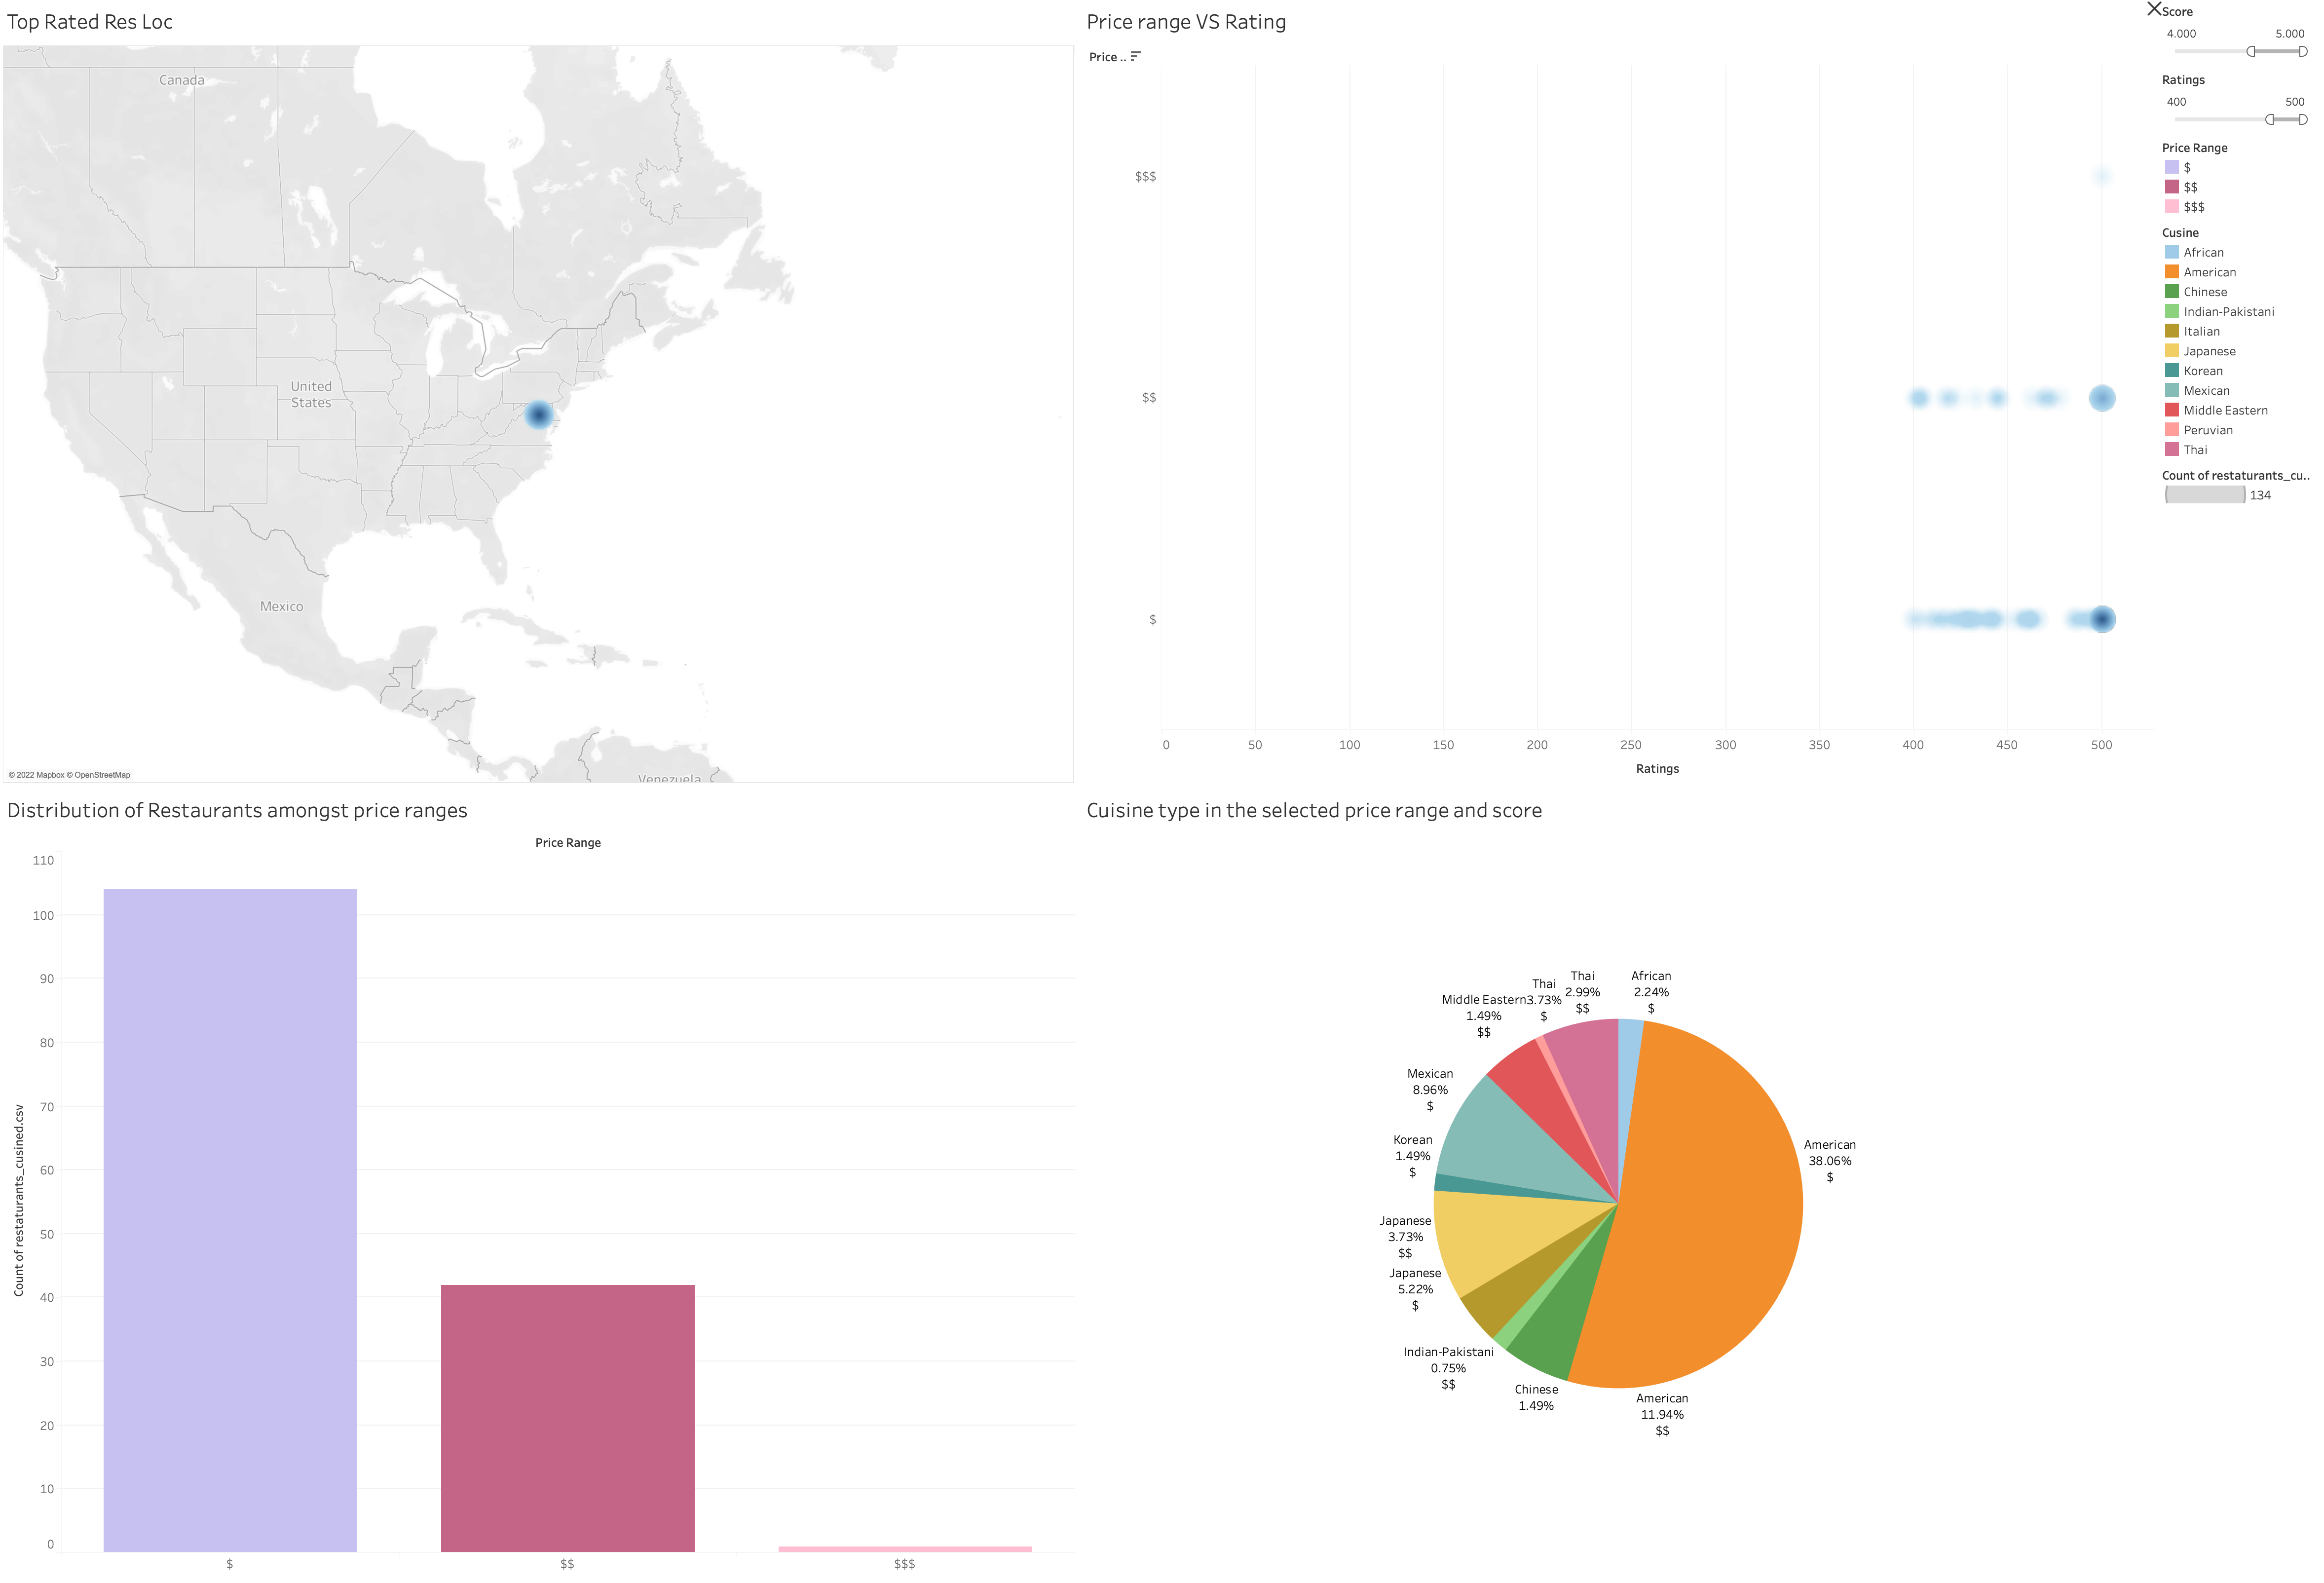

What the dashboard file says about the page in this screenshot:
{"tool":"tableau","page":{"name":"Dashboard","canvas":[1000,1000],"units":"permille","ordinal":0},"visuals":[{"type":"dashboard-object","box":[923.1,4.3,8.9,12.9]},{"type":"worksheet","title":"Top Rated Res Loc","mark":"Heatmap","box":[4.2,6.7,453.4,493.2]},{"type":"worksheet","title":"Price range VS Rating","mark":"Heatmap","rows":["price_range"],"cols":["Ratings"],"box":[457.7,6.7,453.6,493.2]},{"type":"filter","title":"Cuisines Pie Chart","param":"[federated.0bihxwp1jm1og216x9nrr1738snc].[none:Score:qk]","box":[911.3,6.7,84.5,58.1]},{"type":"filter","title":"Top Rated Res Loc","param":"[federated.0bihxwp1jm1og216x9nrr1738snc].[none:Ratings:qk]","box":[911.3,64.8,84.5,58.1]},{"type":"legend","title":"Dist of Res amongst price ranges","param":"[federated.0bihxwp1jm1og216x9nrr1738snc].[none:price_range:nk]","box":[911.3,122.9,84.5,72.4]},{"type":"legend","title":"Cuisines Pie Chart","param":"[federated.0bihxwp1jm1og216x9nrr1738snc].[none:Cusine:nk]","box":[911.3,195.3,84.5,207.1]},{"type":"legend","title":"Cuisines Pie Chart","param":"[federated.0bihxwp1jm1og216x9nrr1738snc].[__tableau_internal_object_id__].[cnt:r","box":[911.3,402.4,84.5,38.7]},{"type":"worksheet","title":"Dist of Res amongst price ranges","mark":"Bar","rows":["restaturants_cusined.csv_4BD07673F0D2482A9F2C0D9E8CF05D55"],"cols":["price_range"],"box":[4.2,499.9,453.5,493.4]},{"type":"worksheet","title":"Cuisines Pie Chart","mark":"Pie","box":[457.7,499.9,453.6,493.4]}]}

Visuals, with their boxes on the dashboard's canvas, which has no fixed pixel size, in thousandths of its width and height (x1, y1, x2, y2). These are canvas units, not pixel positions in the 2324x1583 screenshot, which may show the page scaled, cropped or inside an application window:
dashboard-object: [923, 4, 932, 17]
"Top Rated Res Loc" worksheet (Heatmap marks): [4, 7, 458, 500]
"Price range VS Rating" worksheet (Heatmap marks): [458, 7, 911, 500]
"Cuisines Pie Chart" filter: [911, 7, 996, 65]
"Top Rated Res Loc" filter: [911, 65, 996, 123]
"Dist of Res amongst price ranges" legend: [911, 123, 996, 195]
"Cuisines Pie Chart" legend: [911, 195, 996, 402]
"Cuisines Pie Chart" legend: [911, 402, 996, 441]
"Dist of Res amongst price ranges" worksheet (Bar marks): [4, 500, 458, 993]
"Cuisines Pie Chart" worksheet (Pie marks): [458, 500, 911, 993]
